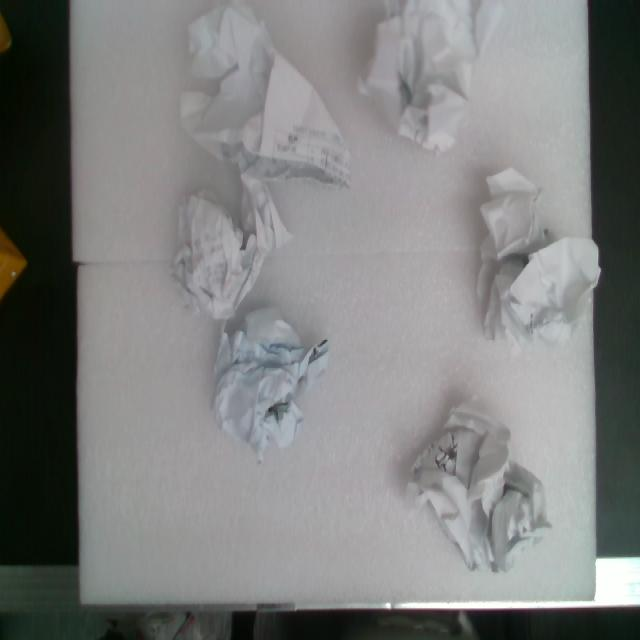paper: (373, 384, 583, 597), (313, 0, 522, 186), (114, 160, 294, 344), (462, 164, 623, 365), (176, 289, 338, 472)
